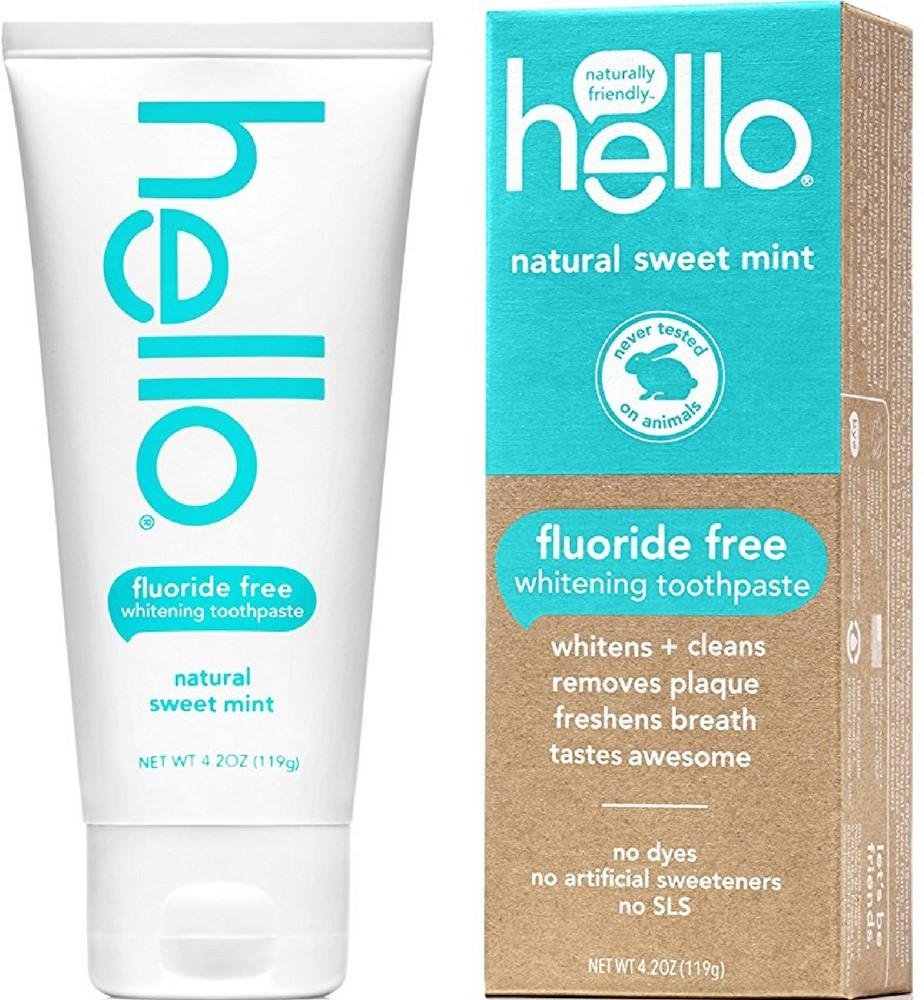toothpaste: (5, 19, 451, 1000)
